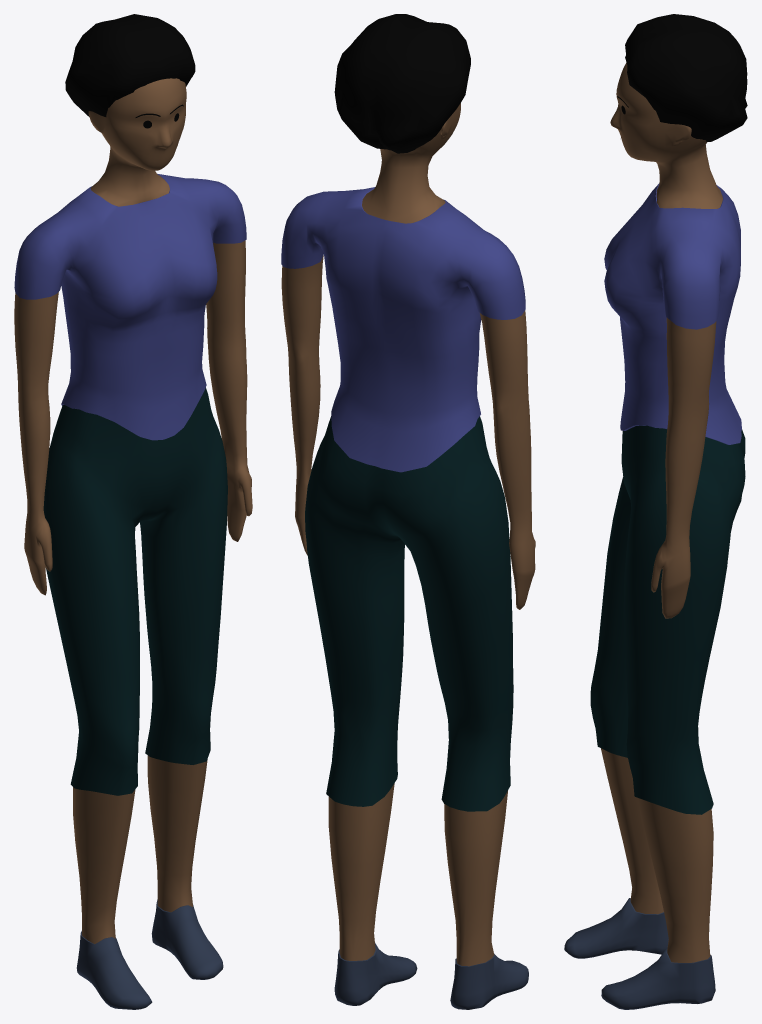
The model's file is Female_Talking_2.glb.
The picture shows the model from 3 angles, left to right: view 1: azimuth 30°, elevation 25°; view 2: azimuth 150°, elevation 25°; view 3: azimuth 270°, elevation 25°; orthographic projection. The views are drawn at different scales.
Parts seen in each view (by area): view 1: Female Gazing; view 2: Female Gazing; view 3: Female Gazing.
Boxes of the visible parts, x1,y1,x2,y2 form: Female Gazing: (14, 14, 252, 1009); Female Gazing: (281, 14, 535, 1009); Female Gazing: (564, 14, 747, 1009).
Bounding box in the file's own units: 0.4266 × 1.7 × 0.294.
